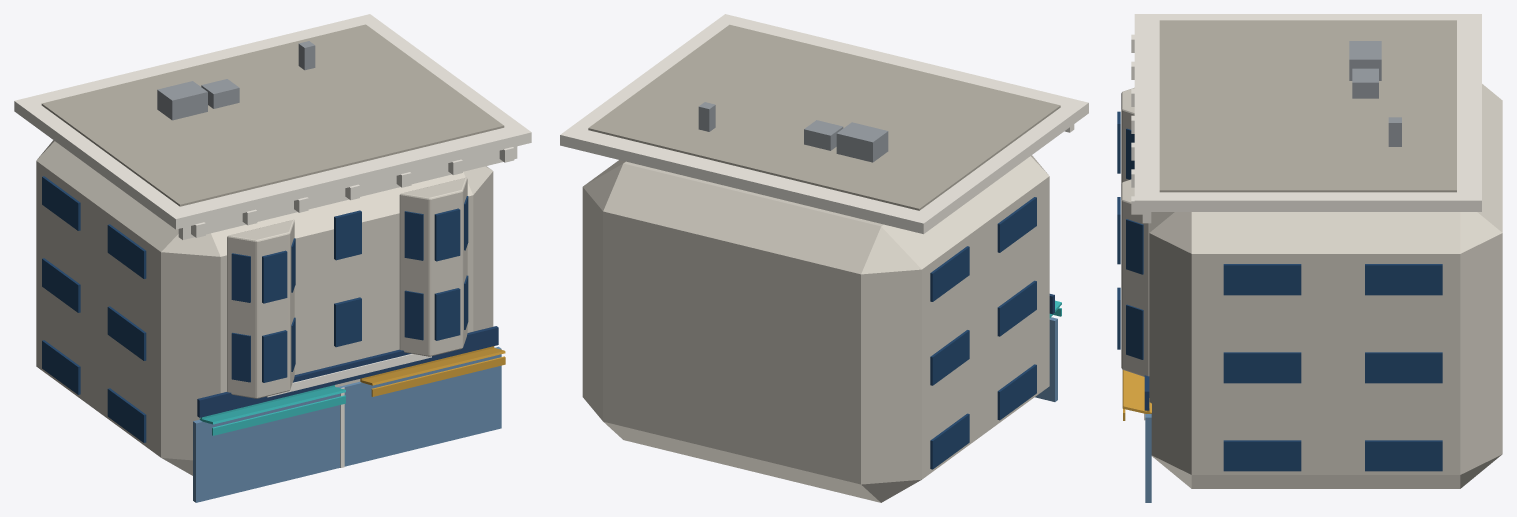
Rendered from mixed_w14_f3_bays.glb.
The picture shows the model from 3 angles, left to right: view 1: azimuth 30°, elevation 25°; view 2: azimuth 150°, elevation 25°; view 3: azimuth 270°, elevation 25°; orthographic projection. The views are drawn at different scales.
Visible parts, largest first — view 1: walls, roofslab, shopglass, corn, bay.001, bay, fascia, frieze, hvac, bw.002, bw.003, fasciatx (+19 smaller); view 2: walls, roofslab, corn, hvac, sb, sb.002, sb.006, sb.004, sb.010, sb.008, hvac2, shopglass; view 3: walls, roofslab, corn, bay.001, sb.001, sb.005, sb.009, sb.003, sb.007, sb.011, hvac, awn.001 (+5 smaller).
Part boxes in pixels (x1,y1,x2,y2): walls: (36, 140, 493, 475); roofslab: (41, 24, 504, 206); shopglass: (193, 346, 501, 502); corn: (14, 14, 531, 229); bay.001: (399, 177, 467, 356); bay: (227, 219, 294, 398); fascia: (197, 326, 498, 417); frieze: (178, 146, 517, 239); hvac: (157, 81, 207, 120); bw.002: (434, 288, 460, 340); bw.003: (434, 208, 460, 261); fasciatx: (267, 354, 431, 397); walls: (582, 155, 1049, 502); roofslab: (588, 24, 1060, 210); corn: (560, 14, 1088, 234); hvac: (836, 122, 888, 162); sb: (997, 364, 1036, 420); sb.002: (930, 413, 969, 469); sb.006: (930, 330, 969, 385); sb.004: (997, 280, 1036, 336); sb.010: (930, 246, 969, 301); sb.008: (997, 197, 1036, 252); hvac2: (804, 120, 843, 150); shopglass: (1035, 317, 1057, 401); walls: (1149, 84, 1502, 488); roofslab: (1159, 20, 1456, 192); corn: (1134, 14, 1481, 211); bay.001: (1121, 179, 1149, 376); sb.001: (1223, 440, 1301, 471); sb.005: (1223, 352, 1301, 383); sb.009: (1223, 264, 1301, 295); sb.003: (1365, 440, 1442, 471); sb.007: (1365, 352, 1442, 383); sb.011: (1365, 264, 1442, 295); hvac: (1349, 41, 1381, 80); awn.001: (1122, 370, 1151, 413).
Size of the model in its own units: 15 by 12.8 by 13.09.
